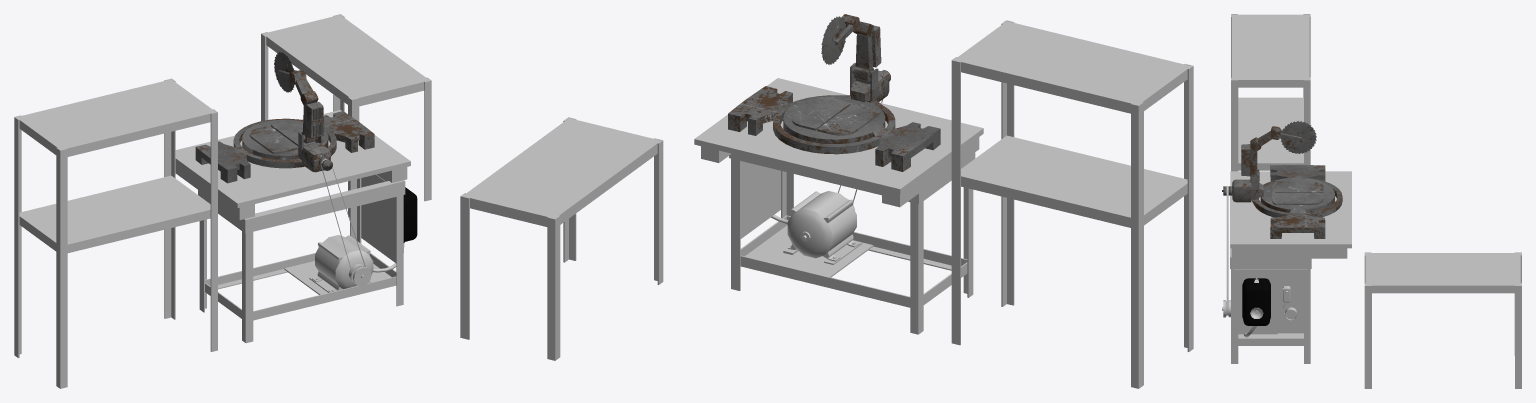
Rendered from 2_StoneBlockProduction_StoneCuttingWorkbrench.fbx.
3 renders of one model, left to right at view 1: azimuth 30°, elevation 25°; view 2: azimuth 150°, elevation 25°; view 3: azimuth 270°, elevation 25°, orthographic. The views are drawn at different scales.
Visible parts, largest first — view 1: Cupboard, StoneCuttingWorkbrench, Cupboard.001, SawHandle, Saw, SawHandle_1; view 2: Cupboard, StoneCuttingWorkbrench, Cupboard.001, SawHandle, Saw; view 3: StoneCuttingWorkbrench, Cupboard, Cupboard.001, SawHandle, Saw.
Part boxes in pixels (box(x1,y1,x2,y2)): Cupboard: box(14, 78, 217, 388); StoneCuttingWorkbrench: box(175, 110, 417, 343); Cupboard.001: box(261, 14, 431, 217); SawHandle: box(195, 102, 374, 183); Saw: box(274, 52, 294, 92); SawHandle_1: box(295, 77, 318, 106); Cupboard: box(951, 20, 1193, 388); StoneCuttingWorkbrench: box(694, 78, 983, 334); Cupboard.001: box(460, 117, 663, 360); SawHandle: box(728, 25, 940, 171); Saw: box(821, 16, 845, 64); StoneCuttingWorkbrench: box(1222, 171, 1351, 363); Cupboard: box(1231, 14, 1310, 171); Cupboard.001: box(1364, 252, 1521, 388); SawHandle: box(1222, 144, 1342, 238); Saw: box(1281, 121, 1316, 153).
Size of the model in its own units: 361 by 242 by 187.
